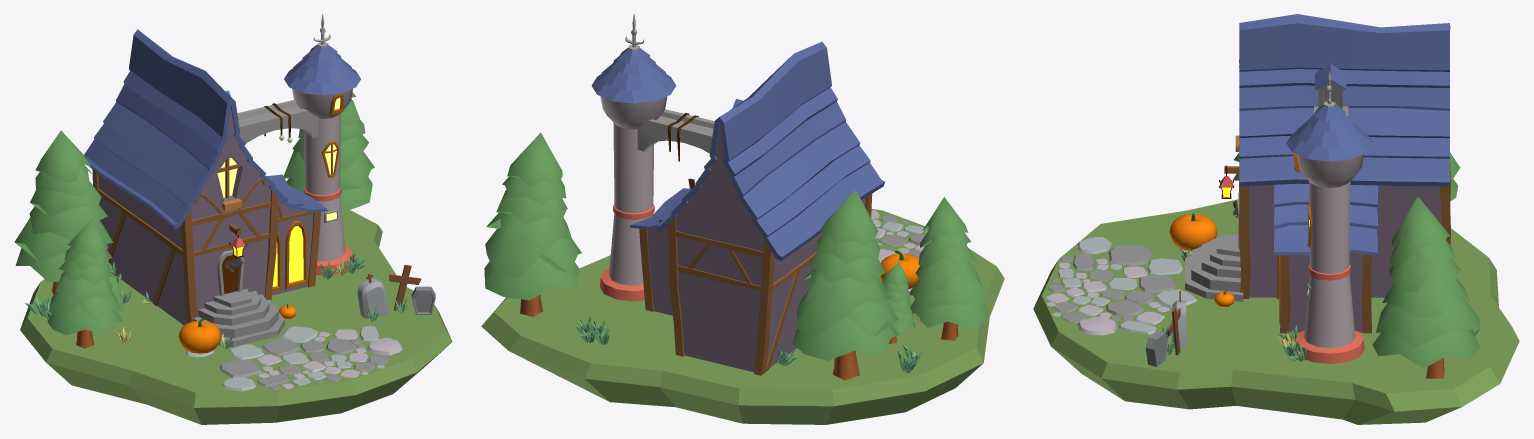
3 views of the same model, side by side, from view 1: azimuth 30°, elevation 25°; view 2: azimuth 150°, elevation 25°; view 3: azimuth 270°, elevation 25° (orthographic). The views are drawn at different scales.
Parts seen in each view (by area): view 1: Cylinder, roof_01, house_01, tree_03, tree_02, tower, tree_01, bridge, house_win_02, Cube.018, house_02, pupmpkin_01 (+23 smaller); view 2: Cylinder, roof_01, house_01, tree_03, tree_01, tower, tree_02, bridge, house_02, Cube.020, tree_04, tower_roof_01 (+10 smaller); view 3: Cylinder, roof_01, tree_01, tower, house_01, roof__02, house_02, pupmpkin_01, tower_roof_01, tower_roof_02, Cube.019, stairs2 (+18 smaller).
Part boxes in pixels (box(x1,y1,x2,y2)): Cylinder: box(20, 209, 452, 424); roof_01: box(84, 29, 288, 229); house_01: box(98, 108, 270, 325); tree_03: box(14, 130, 113, 281); tree_02: box(47, 218, 122, 335); tower: box(292, 88, 353, 275); tree_01: box(283, 92, 374, 210); bridge: box(237, 100, 318, 144); house_win_02: box(285, 220, 307, 288); Cube.018: box(181, 210, 197, 322); house_02: box(272, 202, 313, 295); pupmpkin_01: box(178, 320, 221, 353); Cylinder: box(481, 209, 1004, 424); roof_01: box(656, 41, 884, 261); house_01: box(676, 127, 865, 372); tree_03: box(792, 190, 898, 360); tree_01: box(484, 132, 581, 300); tower: box(599, 96, 667, 301); tree_02: box(909, 197, 989, 327); bridge: box(637, 109, 714, 153); house_02: box(647, 226, 672, 315); Cube.020: box(754, 240, 774, 375); tree_04: box(882, 262, 915, 335); tower_roof_01: box(591, 74, 676, 103); Cylinder: box(1033, 199, 1519, 424); roof_01: box(1239, 14, 1450, 186); tree_01: box(1372, 196, 1479, 368); tower: box(1295, 154, 1364, 363); house_01: box(1249, 185, 1441, 297); roof__02: box(1274, 183, 1378, 255); house_02: box(1288, 252, 1363, 332); pupmpkin_01: box(1169, 214, 1217, 250); tower_roof_01: box(1286, 131, 1372, 161); tower_roof_02: box(1296, 121, 1362, 147); Cube.019: box(1239, 186, 1250, 298); stairs2: box(1191, 246, 1240, 292).
Bounding box in the file's own units: 2083 × 1482 × 2008.
